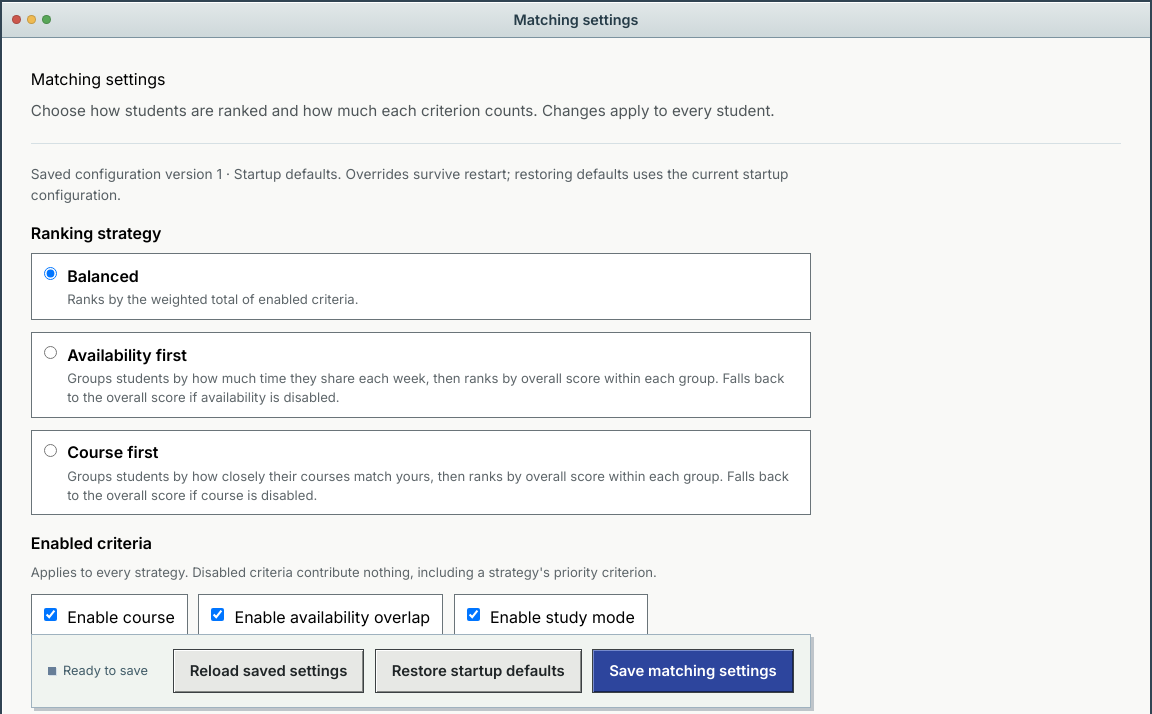
it: admin matching settings › changes only the selected strategy's weights
The width and height of the screenshot is (1152, 714).
Click the radio button labelled "Availability first" at coordinates (50, 352), box [44,346,57,359]
(page scrolled)
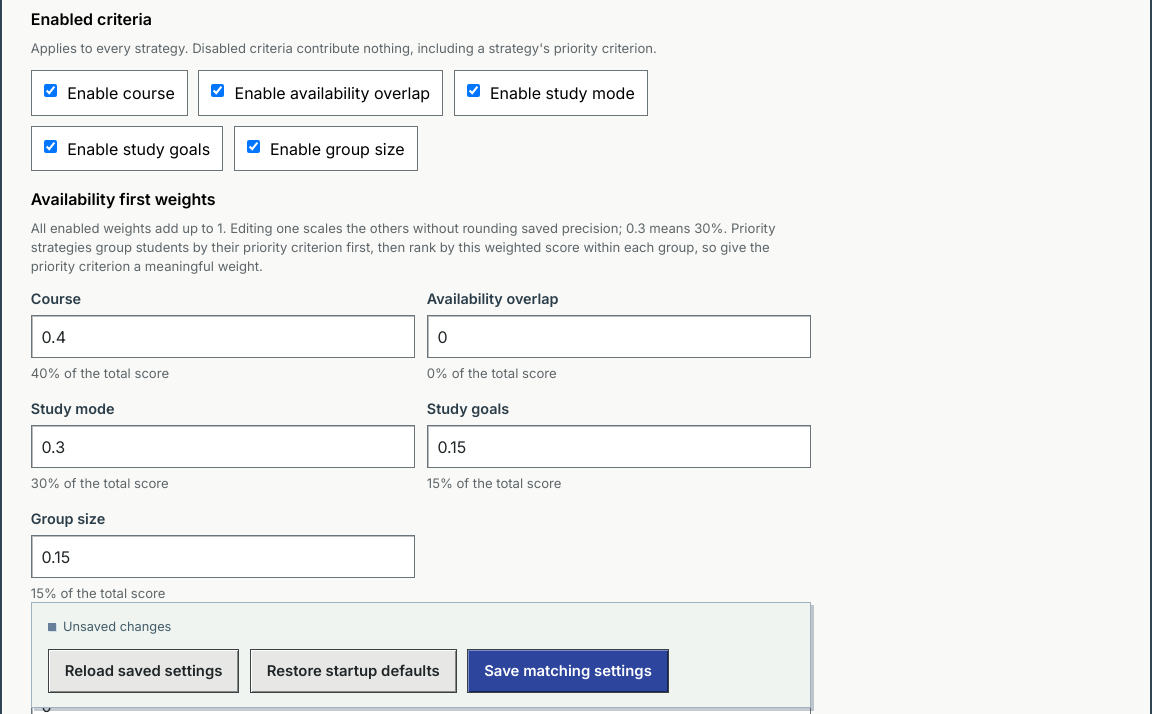
Replace the text in the number field labelled "Course" with "0.7" at coordinates (223, 337), box [31,316,415,358]
(page scrolled)
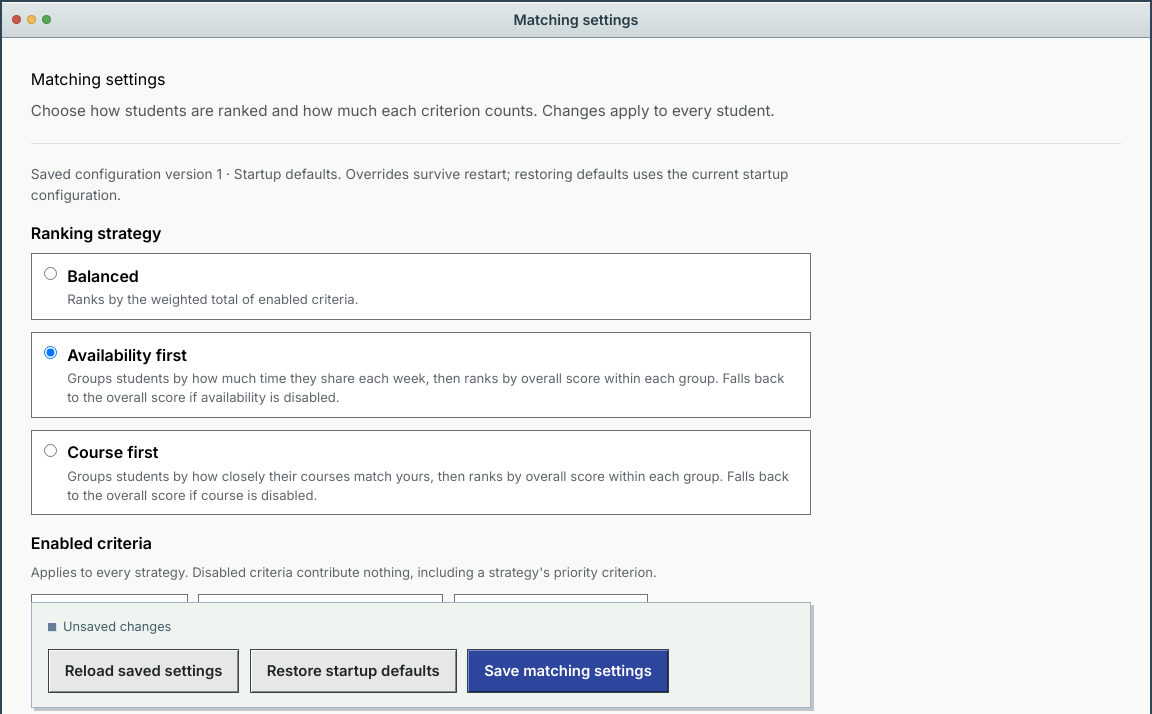
Click the radio button labelled "Balanced Ranks by the weighted total of enabled criteria." at coordinates (50, 274), box [44,267,57,280]
(page scrolled)
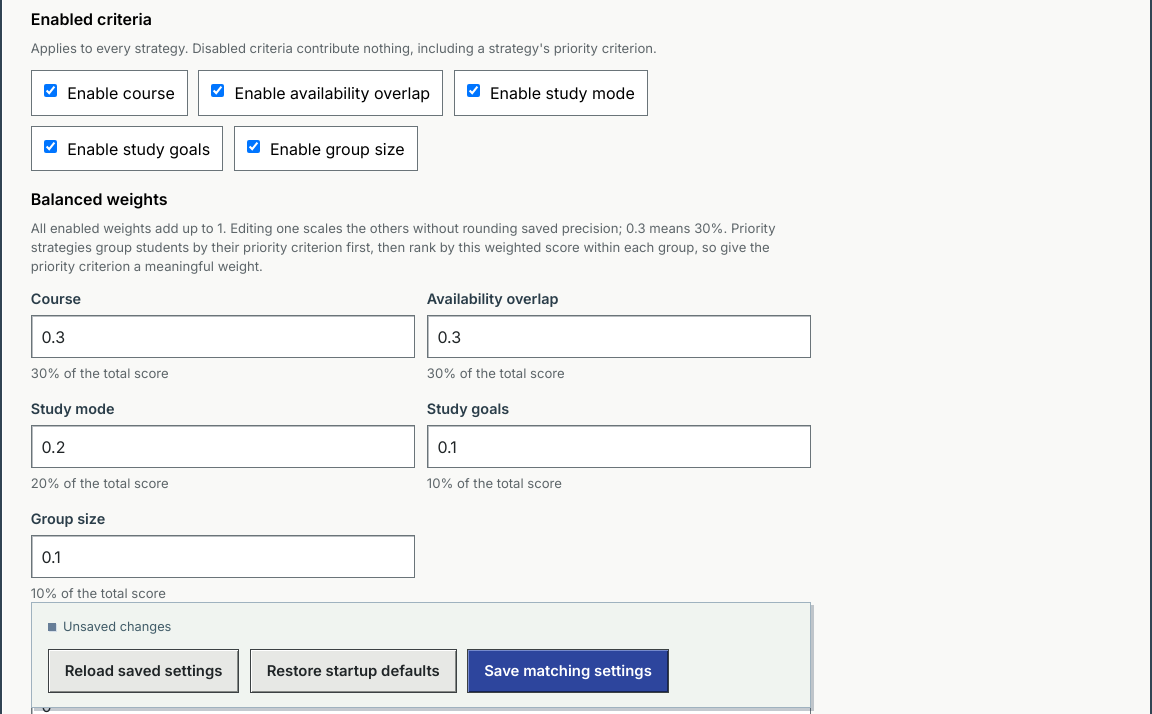
Result: the number field labelled "Course" holds "0.3" at [31,316,415,358]
